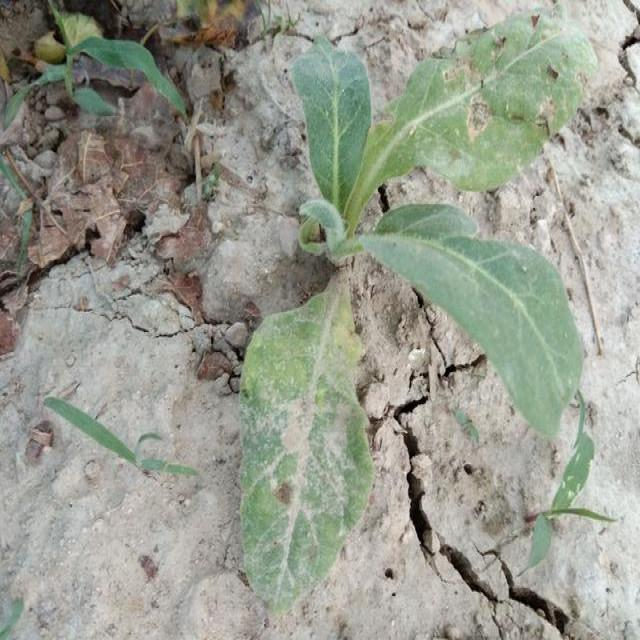crop: (238, 31, 591, 584)
